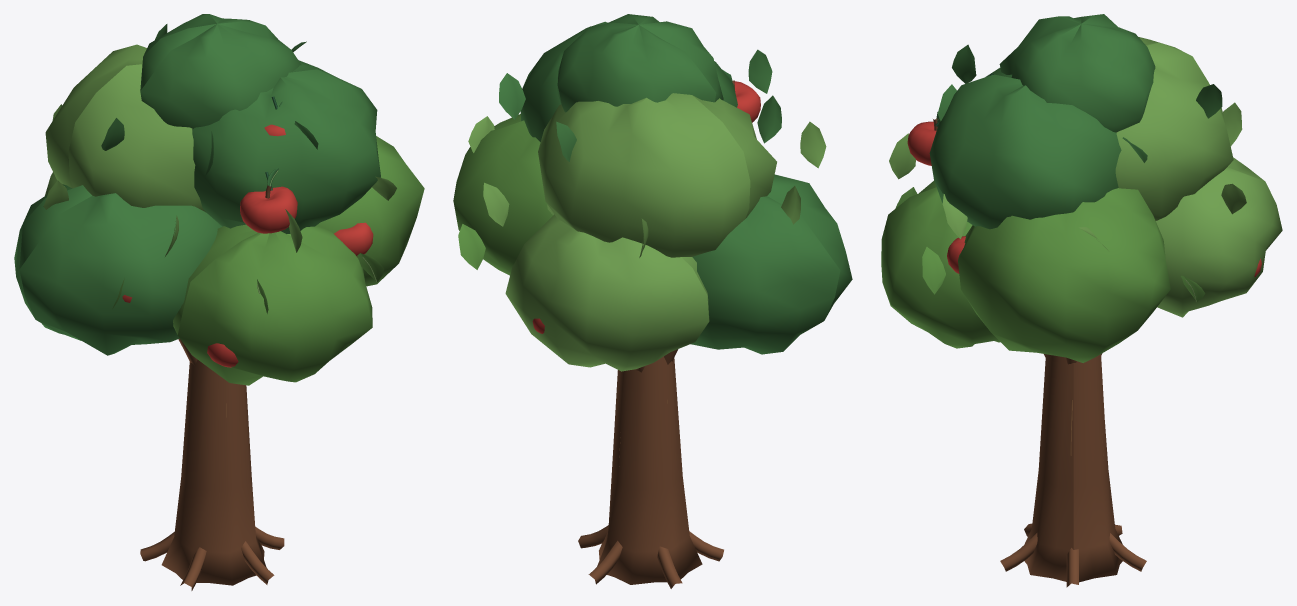
Rendered from manzano.glb.
The picture shows the model from 3 angles, left to right: view 1: azimuth 30°, elevation 25°; view 2: azimuth 150°, elevation 25°; view 3: azimuth 270°, elevation 25°; orthographic projection.
Parts seen in each view (by area): view 1: manzano_copa_viento_0, manzano; view 2: manzano_copa_viento_0, manzano; view 3: manzano_copa_viento_0, manzano.
Part boxes in pixels (box(x1,y1,x2,y2)): manzano_copa_viento_0: box(14, 14, 424, 385); manzano: box(140, 338, 284, 590); manzano_copa_viento_0: box(453, 14, 852, 371); manzano: box(578, 349, 723, 588); manzano_copa_viento_0: box(881, 14, 1282, 362); manzano: box(1000, 353, 1146, 587).
Bounding box in the file's own units: 1.76 × 2.35 × 1.58.
